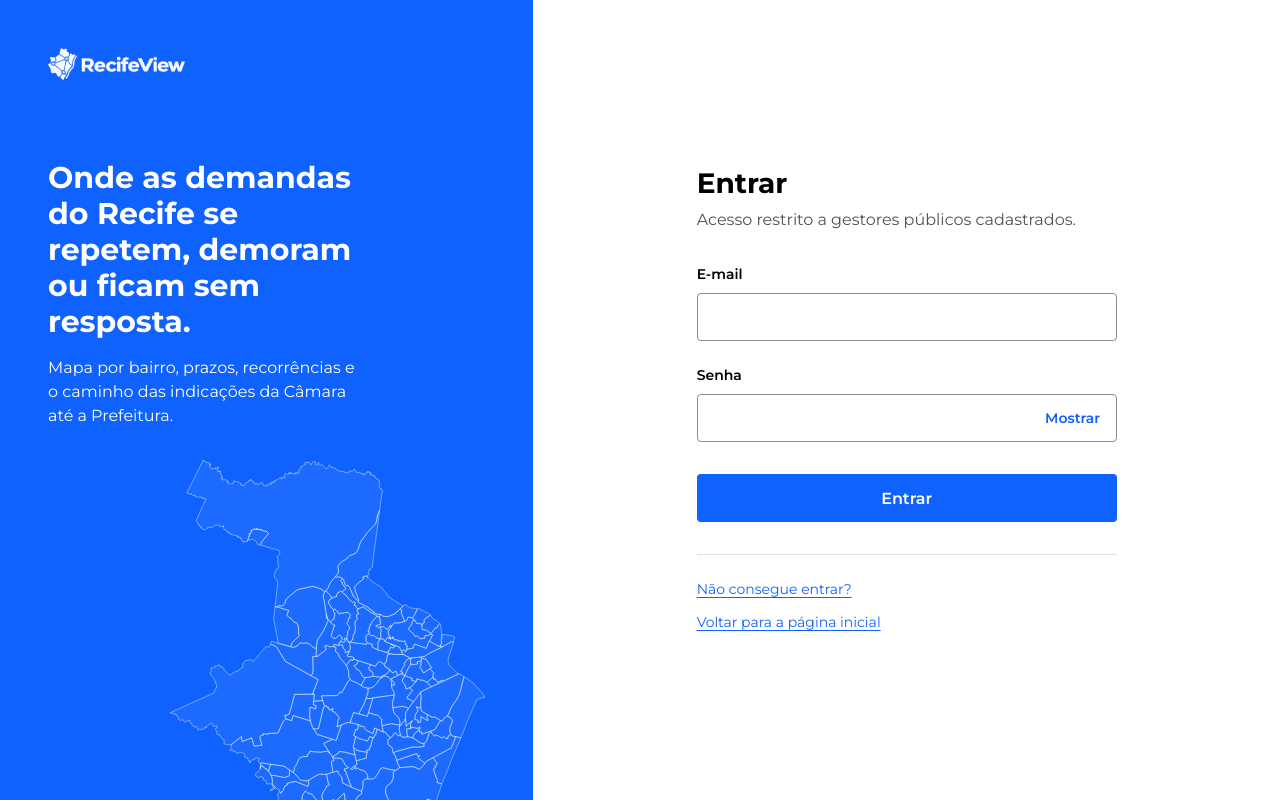
Test case: fluxo de acesso › mostra a mensagem da API quando a senha está errada
This screenshot has width=1280, height=800.
Type "gestora@recife.pe.gov.br" into the field labelled "E-mail".
click(907, 317); type("gestora@recife.pe.gov.br")  # box left=697, top=293, right=1117, bottom=341
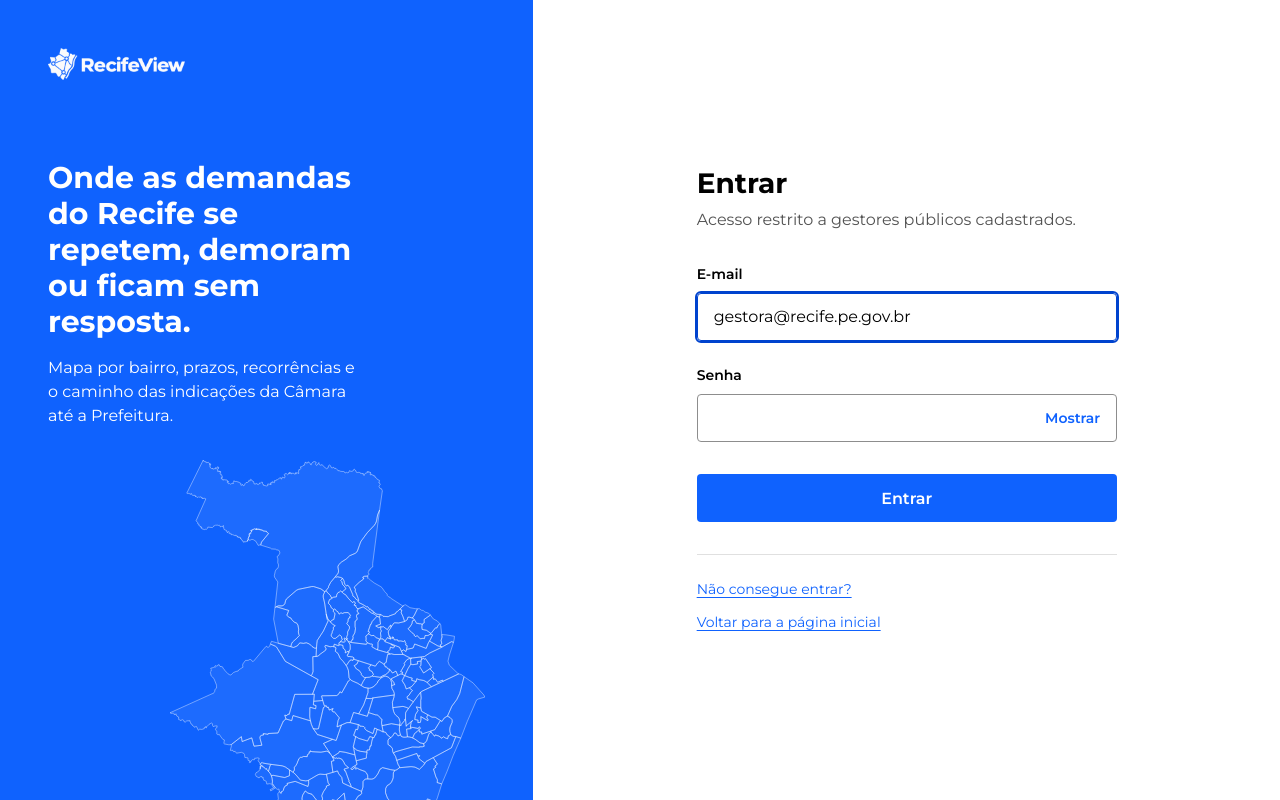
Type "errada" into the password field labelled "Senha".
click(907, 418); type("errada")  # box left=697, top=394, right=1117, bottom=442
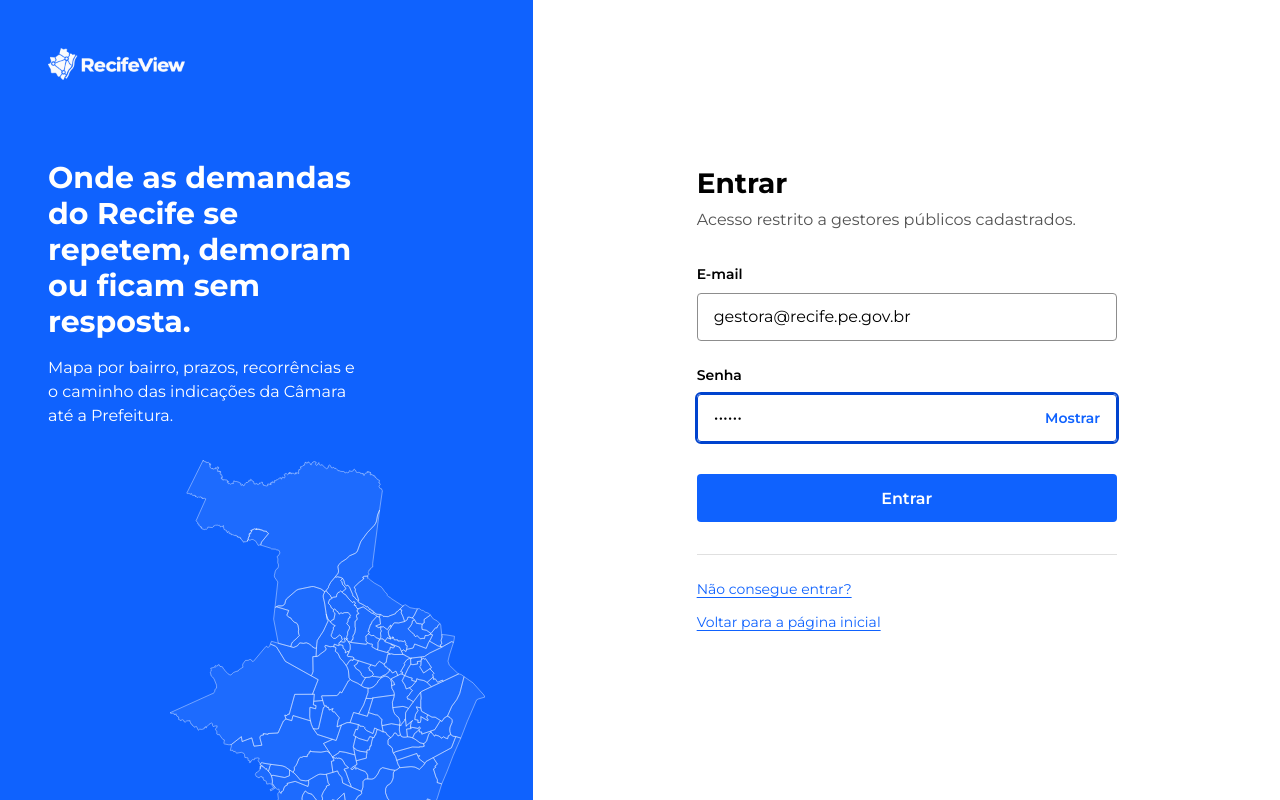
Click the button "Entrar".
click(907, 498)  # box left=697, top=474, right=1117, bottom=522
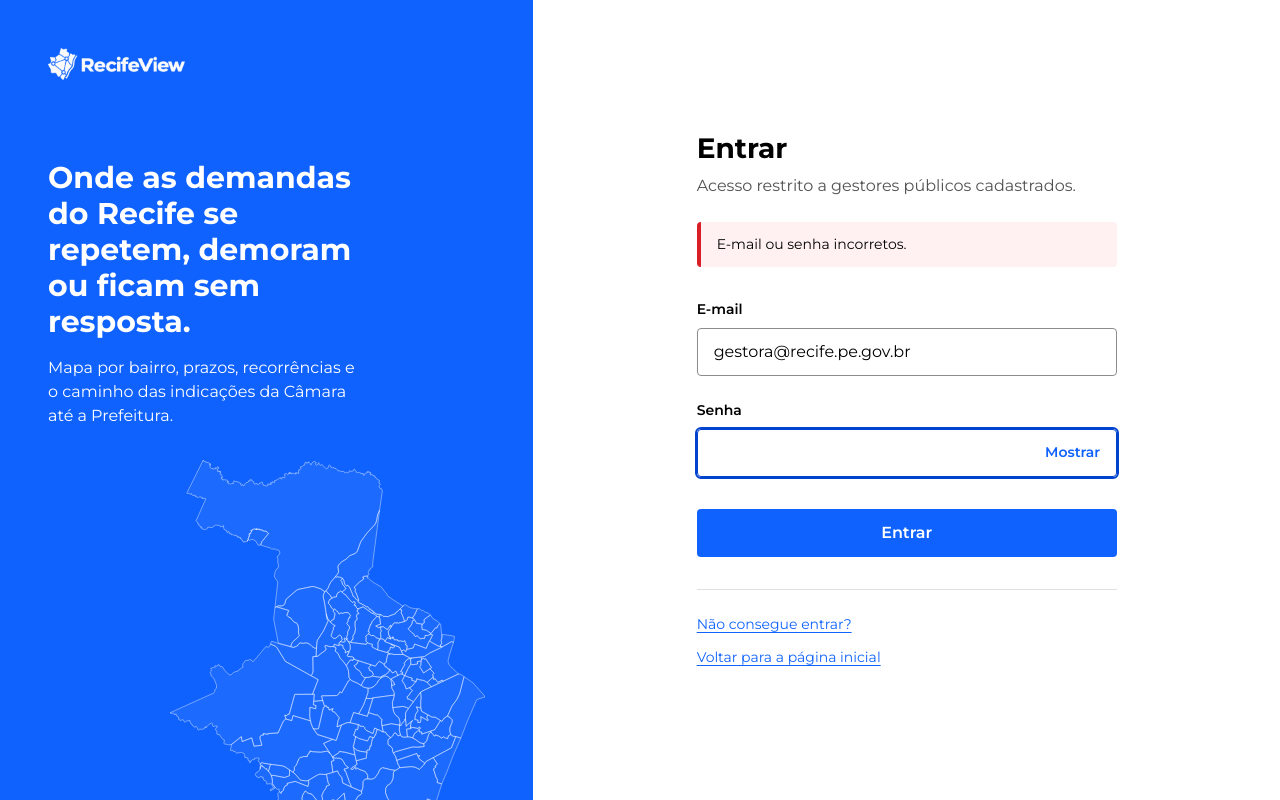
Check: the message reads "E-mail ou senha incorretos.", box left=717, top=235, right=907, bottom=253
Check: the password field labelled "Senha" is empty, box left=697, top=429, right=1117, bottom=477
